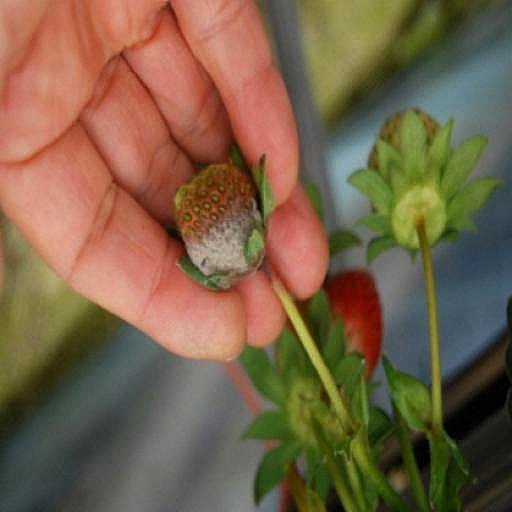Gray Mold: (172, 219, 276, 368)
